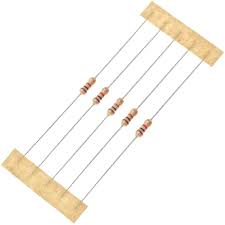resistor: (75, 77, 96, 101), (90, 84, 111, 108), (104, 96, 124, 118), (118, 106, 140, 126), (133, 116, 153, 138)
